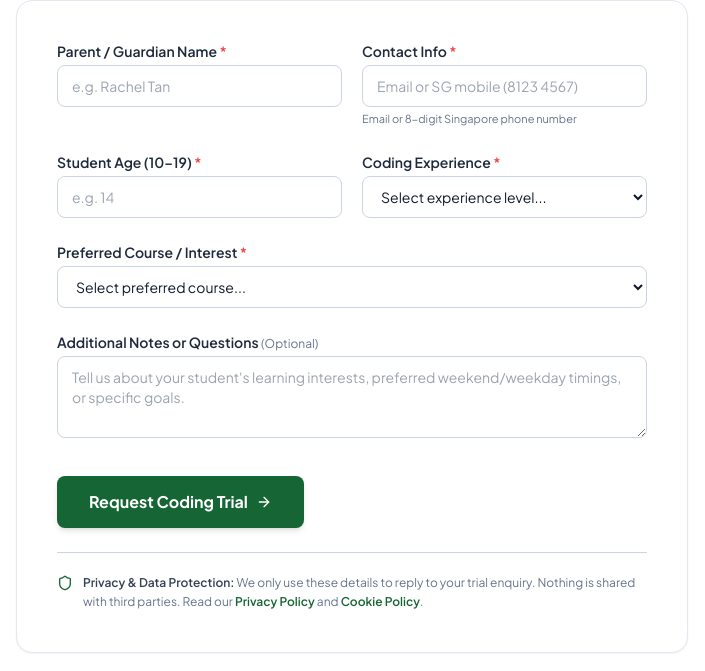
Scenario: TrialEnquiryForm Component & Accessibility Tests › displays inline error with role="alert" when a field is blurred with invalid input
This screenshot has width=705, height=671.
Click the field labelled "Parent / Guardian Name *" at (200, 86), box [57,65,342,107]
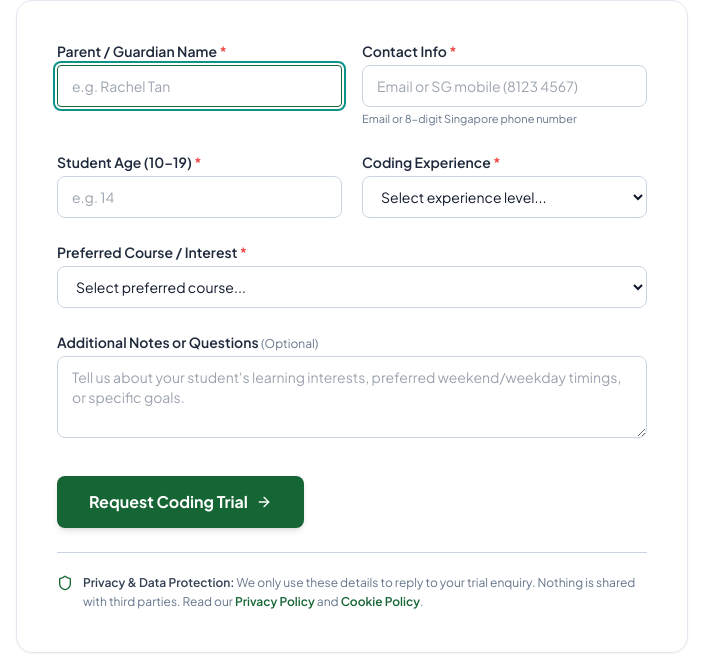
Press Tab
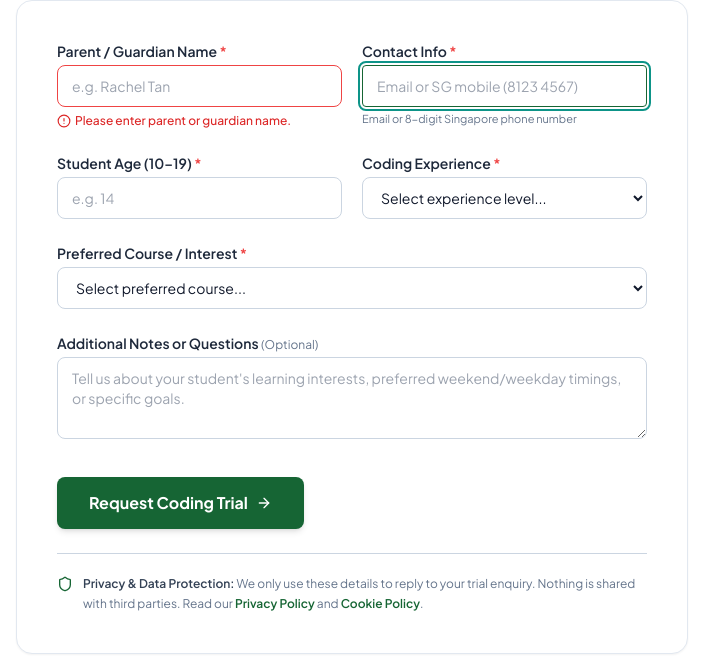
expect the message shows "Please enter parent or guardian name": met, box [75,113,291,128]
